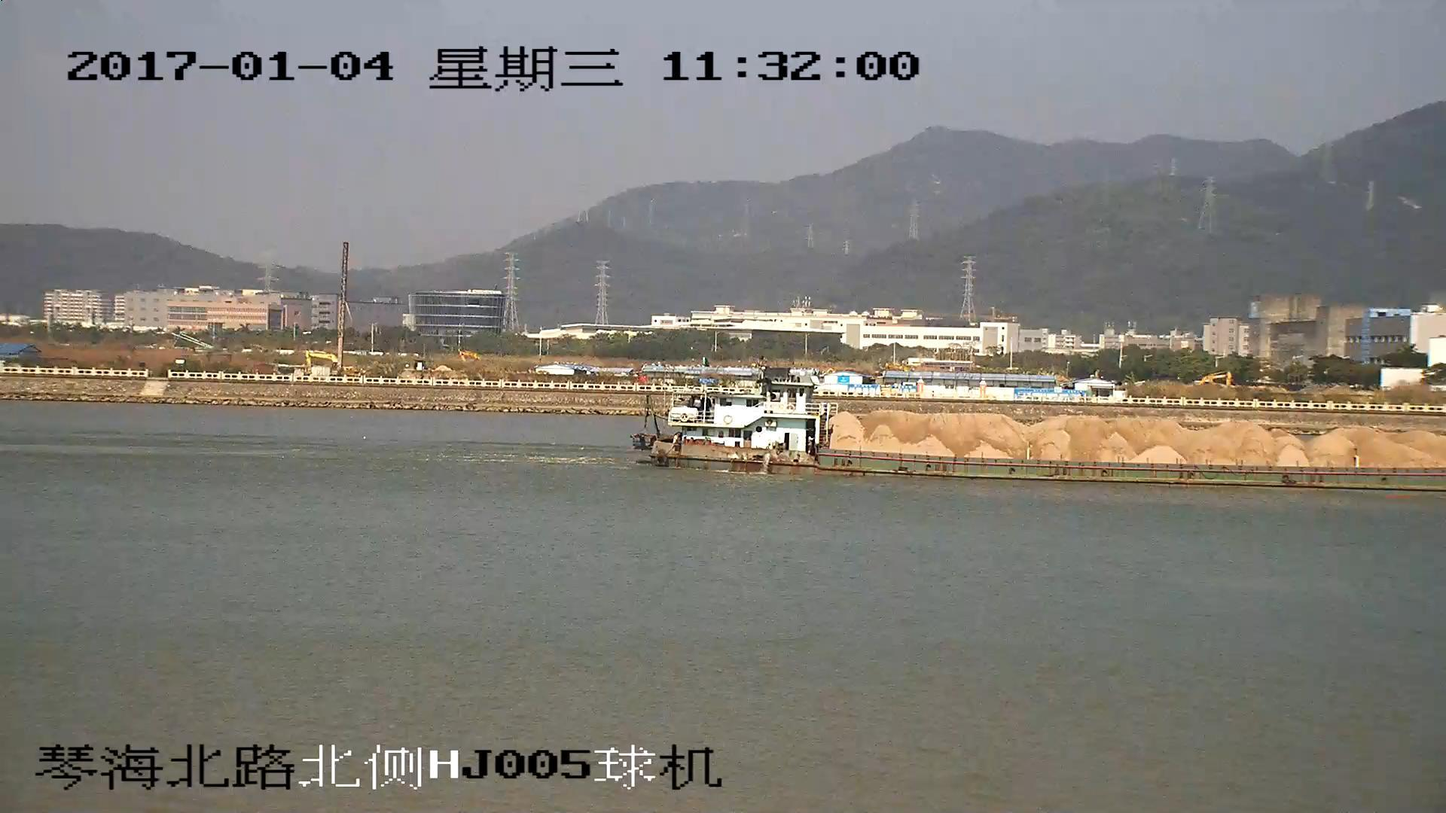ore carrier: (634, 376, 1445, 492)
